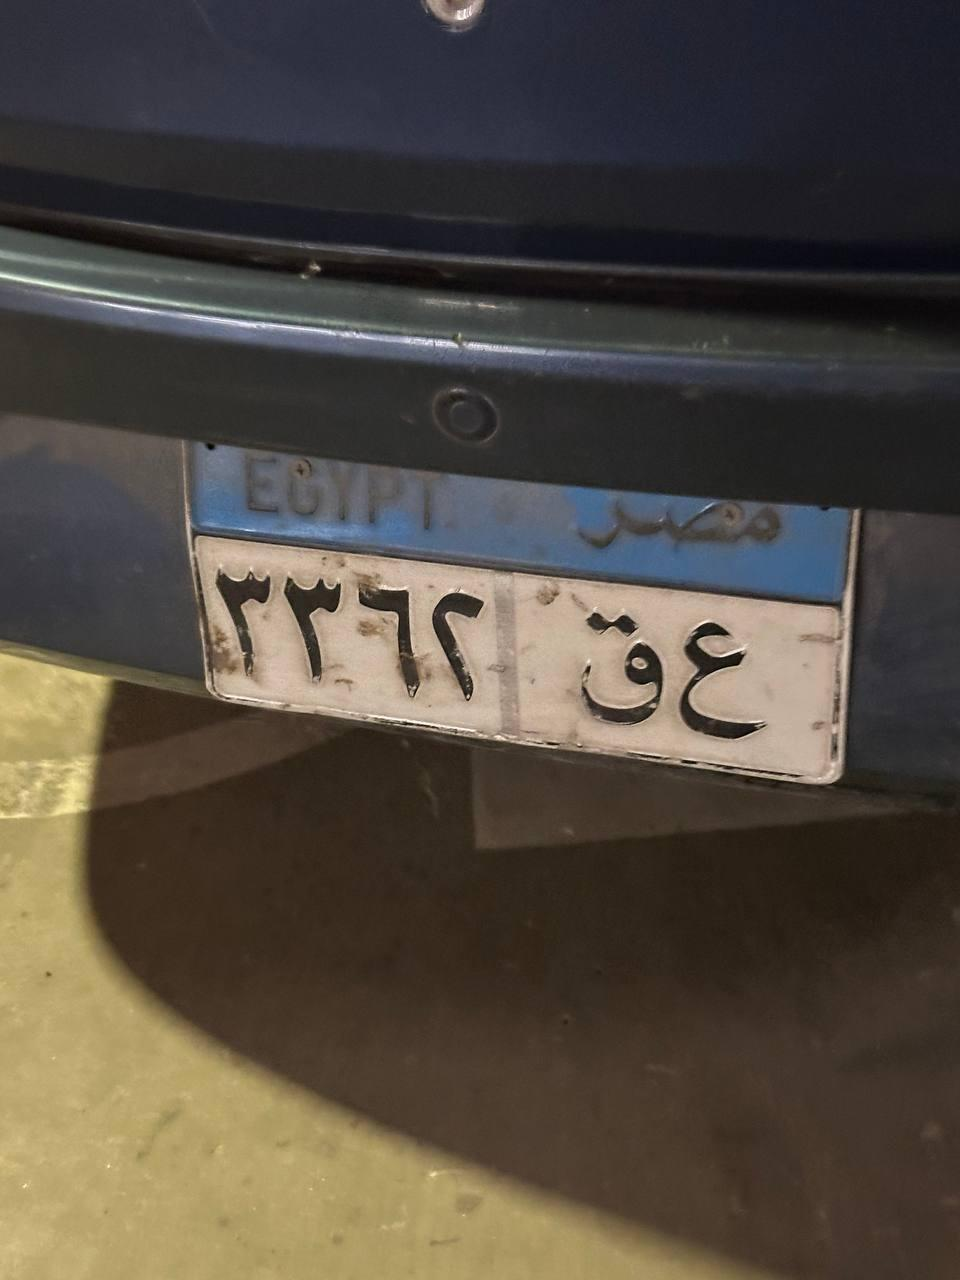2: (426, 585, 489, 701)
3: (272, 550, 348, 687), (204, 553, 282, 680)
6: (357, 566, 431, 694)
Een: (674, 620, 778, 745)
License Plate: (153, 398, 869, 798)
Q: (568, 606, 667, 728)
